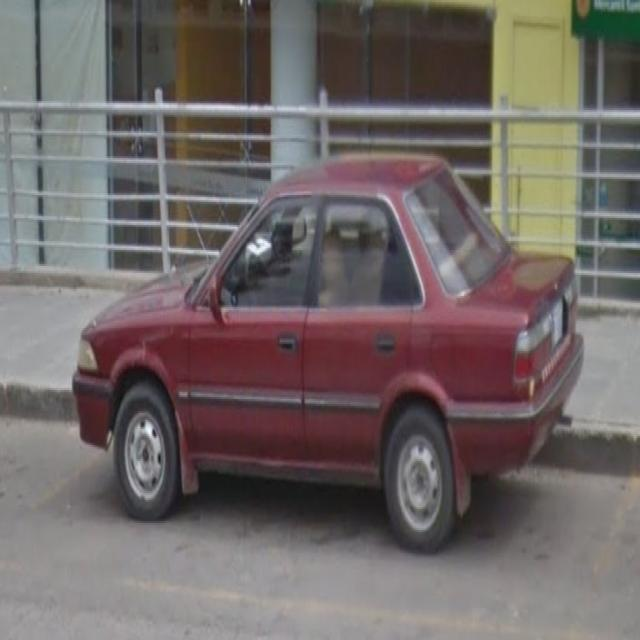car: (76, 165, 584, 554)
